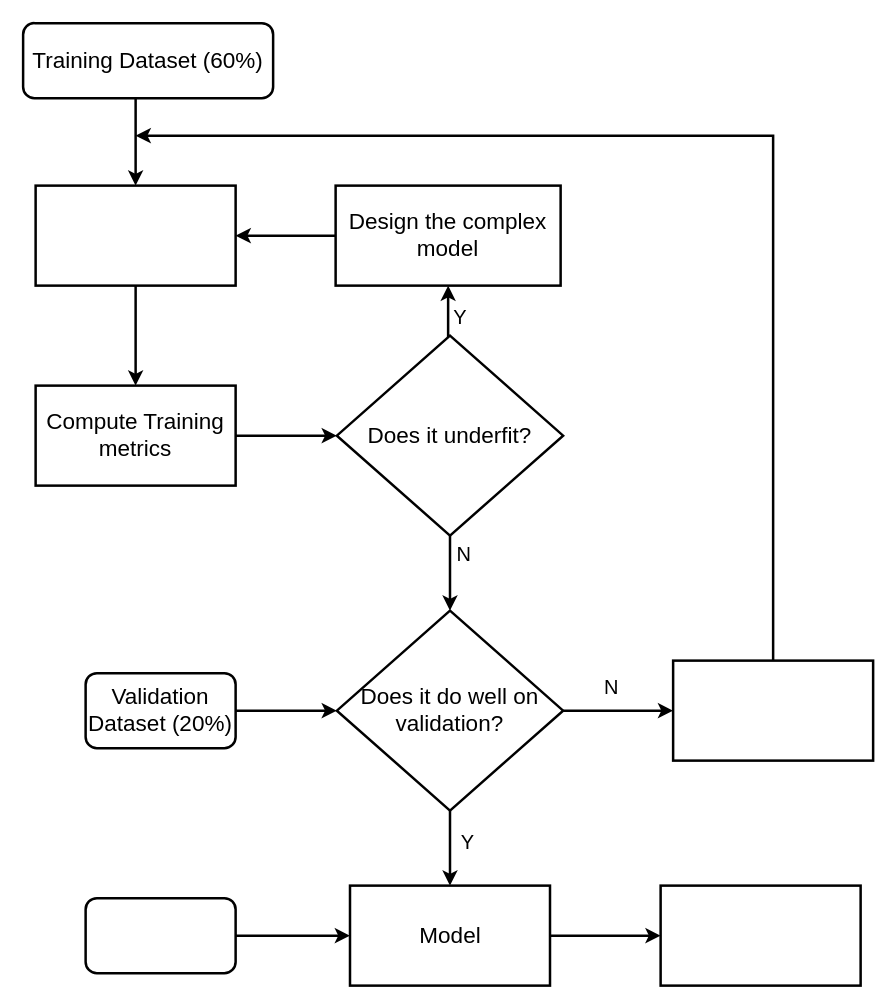
This 895x1008 diagram has some shape labels left out. The shapes that lost their labels are listed below. From the top down, each one's box as (x1, y1, x2, y2) in pixels, then its label:
(34, 184, 236, 286): Train the model
(671, 659, 874, 761): Get More Data
(84, 896, 236, 974): Testing Dataset (20%)
(659, 884, 861, 986): Report Test Metrics
